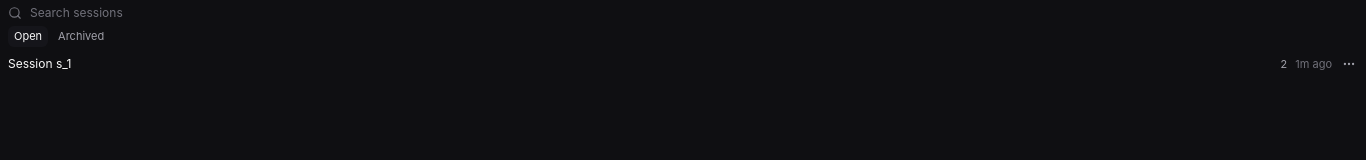
Test: Feature: zoc-agent-chat-rebuild, task 22.5: the Session list › says so when nothing matches, rather than showing an empty list
This screenshot has width=1366, height=160.
Type "nothing like this" into the field with placeholder "Search sessions" at (694, 13), box [30,4,1358,22]
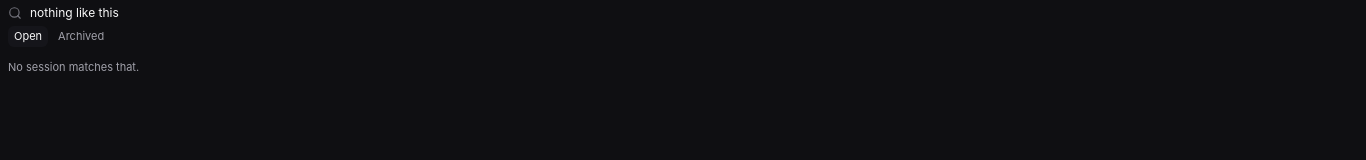
Now the text "No session matches that." is shown, box [8,60,139,74]
